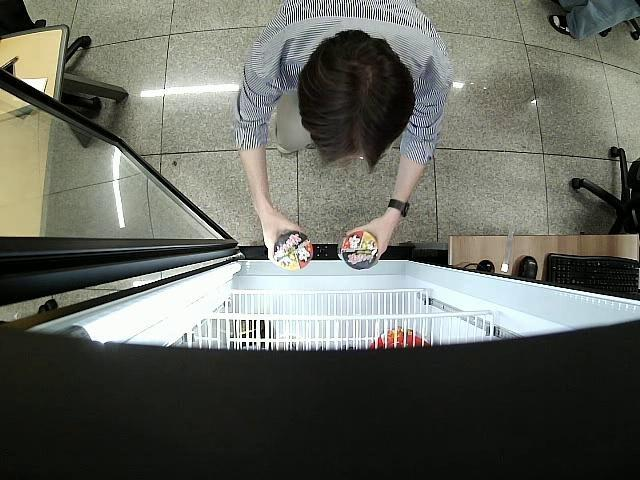08_buldak_S: (338, 231, 378, 270), (275, 230, 312, 272)
